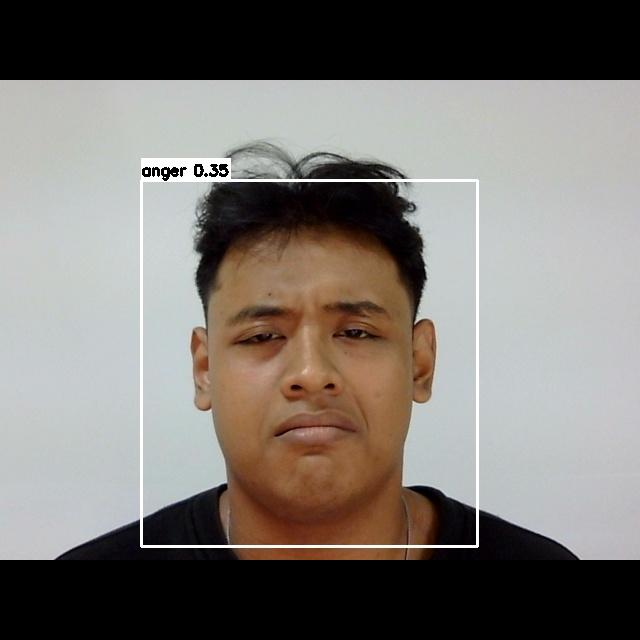Sad: (209, 281, 411, 486)
